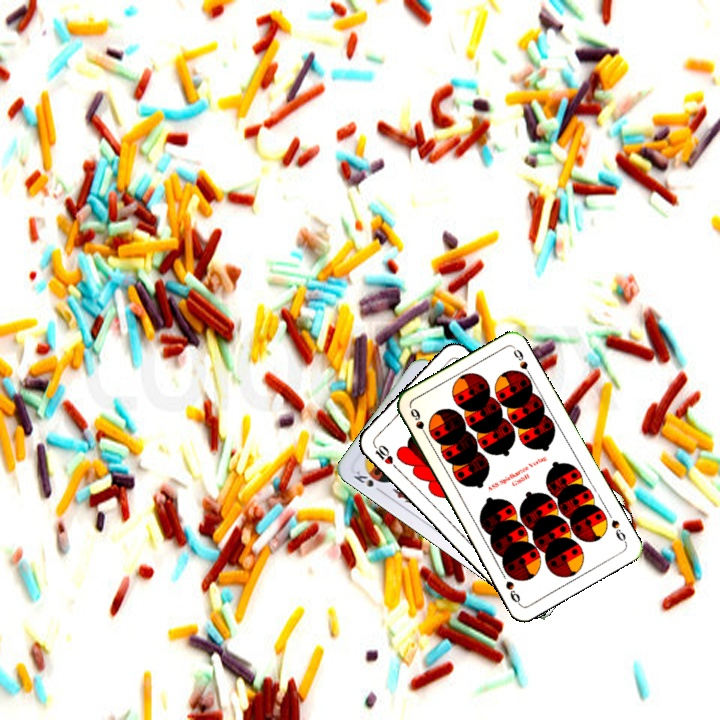H10: (369, 439, 400, 472)
S9: (406, 404, 431, 442), (607, 516, 629, 546)
SK: (349, 466, 385, 496)
